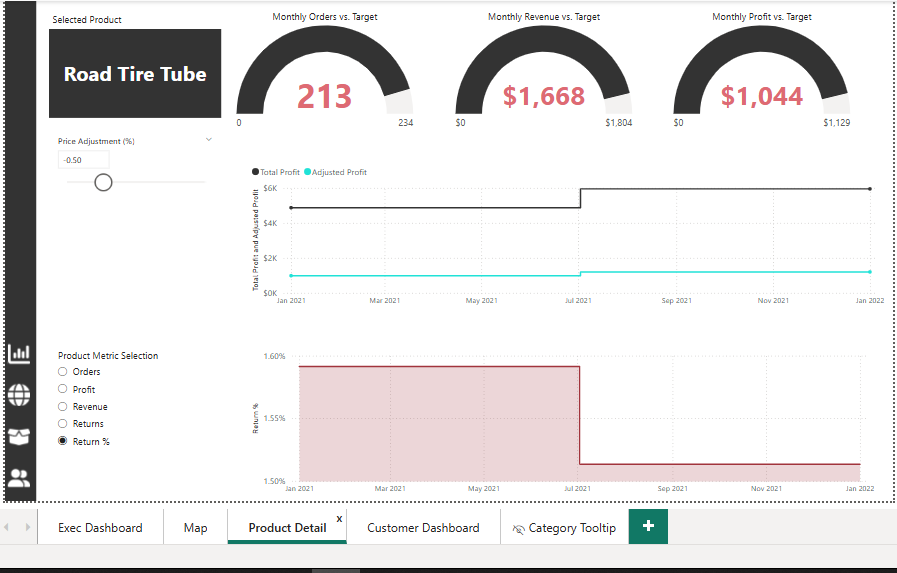

What the dashboard file says about the page in this screenshot:
{"tool":"powerbi","page":{"name":"Product Detail","canvas":[1280,720],"ordinal":2},"visuals":[{"type":"shape","box":[0,0,45,720],"z":0},{"type":"actionButton","box":[0,488.2,44.6,40.3],"z":0,"group":"g1"},{"type":"gauge","title":"Monthly Orders vs. Target","fields":{"Y":["Measure Table.Total Orders"],"MaxValue":["Measure Table.Order Target"]},"box":[322.5,12.5,276.2,181.2],"z":1000},{"type":"actionButton","box":[0,607.2,44.6,40.3],"z":1000,"group":"g1"},{"type":"gauge","title":"Monthly Revenue vs. Target","fields":{"Y":["Measure Table.Total Revenue"],"MaxValue":["Measure Table.Revenue Target"]},"box":[637.5,12.5,276.2,181.2],"z":2000},{"type":"actionButton","box":[0,666.8,44.6,40.3],"z":2000,"group":"g1"},{"type":"gauge","title":"Monthly Profit vs. Target","fields":{"Y":["Measure Table.Total Profit"],"MaxValue":["Measure Table.Profit Target"]},"box":[952.5,12.5,276.2,181.2],"z":3000},{"type":"actionButton","box":[0,547.7,44.6,40.3],"z":3000,"group":"g1"},{"type":"lineChart","title":"Profit Trending","fields":{"Category":["Calendar Lookup.Date Hierarchy.Start of Year","Calendar Lookup.Date Hierarchy.Start of Month","Calendar Lookup.Date Hierarchy.Start of Week","Calendar Lookup.Date Hierarchy.Date"],"Y":["Measure Table.Total Profit","Measure Table.Adjusted Profit"]},"box":[349.9,226.1,921.6,223.2],"z":4000},{"type":"areaChart","title":"Returns Trending","fields":{"Category":["Calendar Lookup.Date Hierarchy.Start of Year","Calendar Lookup.Date Hierarchy.Start of Month","Calendar Lookup.Date Hierarchy.Start of Week","Calendar Lookup.Date Hierarchy.Date"],"Y":["Measure Table.Return Rate"]},"box":[349.9,496.8,907.2,223.2],"z":5000},{"type":"card","fields":{"Values":["Min(Product Lookup.ProductName)"]},"box":[63.8,40,247.5,127.5],"z":6000},{"type":"textbox","box":[63.8,12.5,136.2,28.8],"z":7000},{"type":"group","id":"g1","title":"Navigation Buttons","box":[0,488.2,44.6,218.9],"z":8000},{"type":"slicer","fields":{"Values":["Price Adjustment (%).Price Adjustment (%)"]},"box":[63.4,187.2,247.7,131],"z":9000},{"type":"slicer","fields":{"Values":["Product Metric Selection.Product Metric Selection"]},"box":[63.4,496.8,203,178.6],"z":9001}]}

Visuals, with their boxes on the page's 1280x720 design canvas (x1, y1, x2, y2). These are canvas units, not pixel positions in the 897x573 screenshot, which may show the page scaled, cropped or inside an application window:
shape: (0, 0, 45, 720)
actionButton: (0, 488, 45, 528)
"Monthly Orders vs. Target" gauge: (322, 12, 599, 194)
actionButton: (0, 607, 45, 648)
"Monthly Revenue vs. Target" gauge: (638, 12, 914, 194)
actionButton: (0, 667, 45, 707)
"Monthly Profit vs. Target" gauge: (952, 12, 1229, 194)
actionButton: (0, 548, 45, 588)
"Profit Trending" lineChart: (350, 226, 1272, 449)
"Returns Trending" areaChart: (350, 497, 1257, 720)
card - Min(Product Lookup.ProductName): (64, 40, 311, 168)
textbox: (64, 12, 200, 41)
"Navigation Buttons" group: (0, 488, 45, 707)
slicer - Price Adjustment (%).Price Adjustment (%): (63, 187, 311, 318)
slicer - Product Metric Selection.Product Metric Selection: (63, 497, 266, 675)
